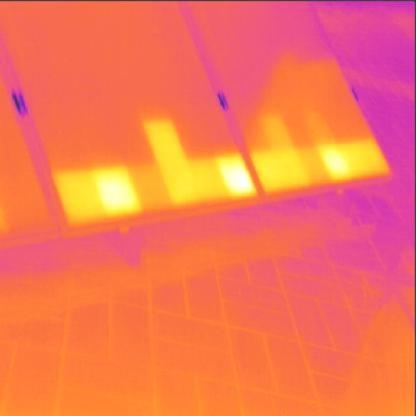anomaly: (60, 117, 251, 227), (253, 114, 388, 196)
